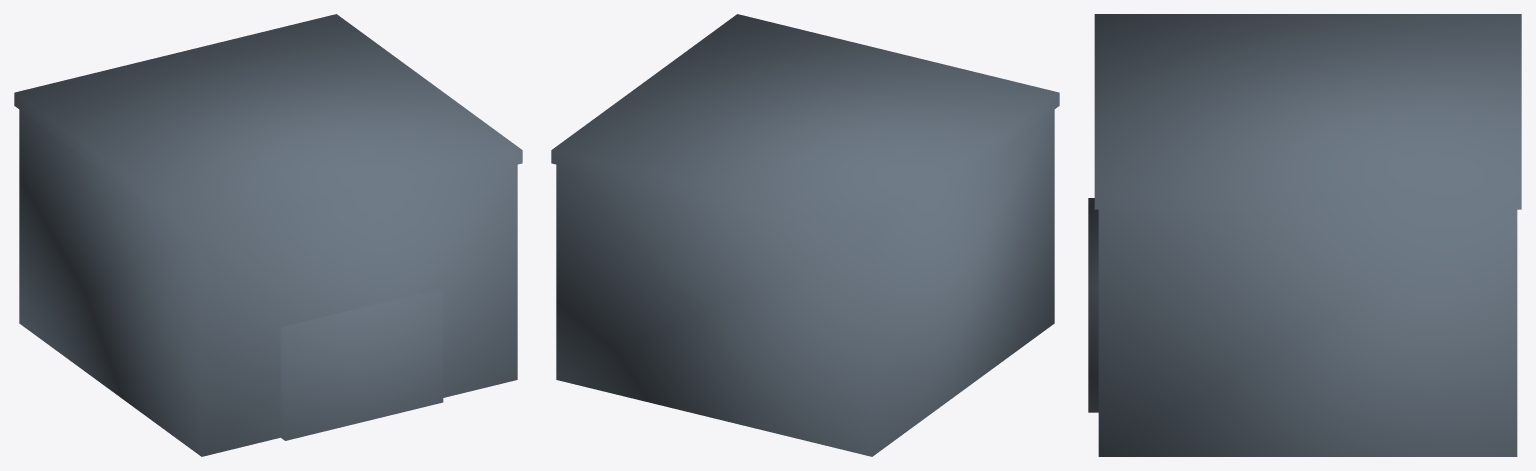
The model's file is landing_dock.obj.
3 views of the same model, side by side, from view 1: azimuth 30°, elevation 25°; view 2: azimuth 150°, elevation 25°; view 3: azimuth 270°, elevation 25° (orthographic). The views are drawn at different scales.
Visible parts, largest first — view 1: building; view 2: building; view 3: building.
Boxes of the visible parts, x1,y1,x2,y2 form: building: [14, 14, 522, 456]; building: [551, 14, 1059, 456]; building: [1088, 14, 1521, 456].
Size of the model in its own units: 3.06 by 2.09 by 3.11.
